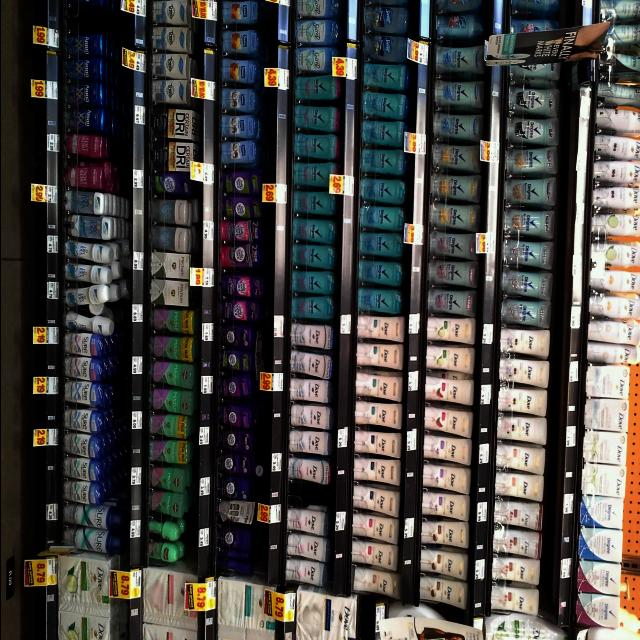empty_space: (71, 4, 119, 29), (286, 488, 326, 504)
